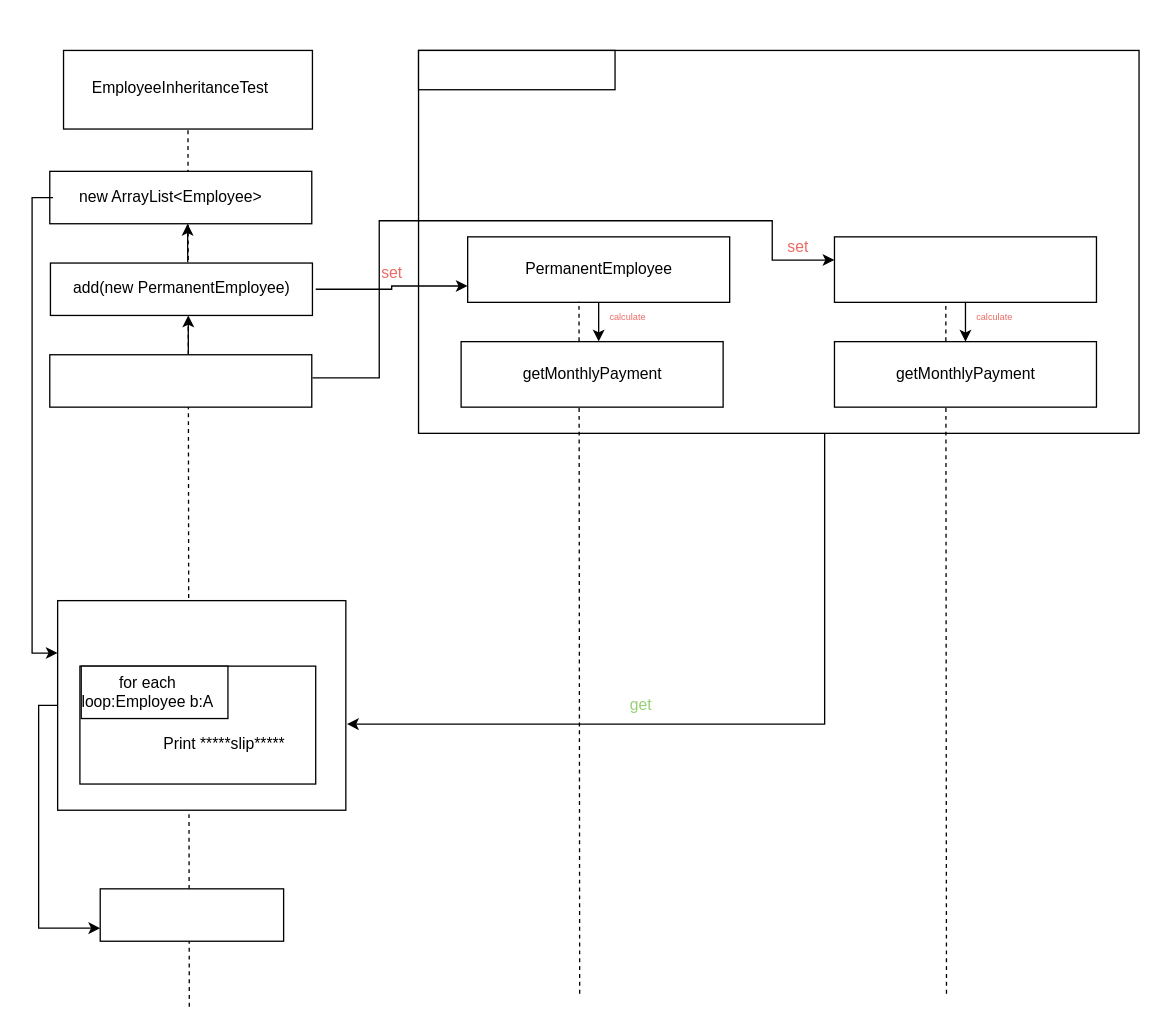
Some shapes in this 1162 by 1031 pixel diagram are drawn without their labels. Each missing label, with the centre of its shape:
"add(new HourlyEmployee)" goes at (x=180, y=380).
"Employee {Abstract}" goes at (x=516, y=69).
"HourlyEmployee" goes at (x=964, y=269).
"Show slip" goes at (x=191, y=914).
